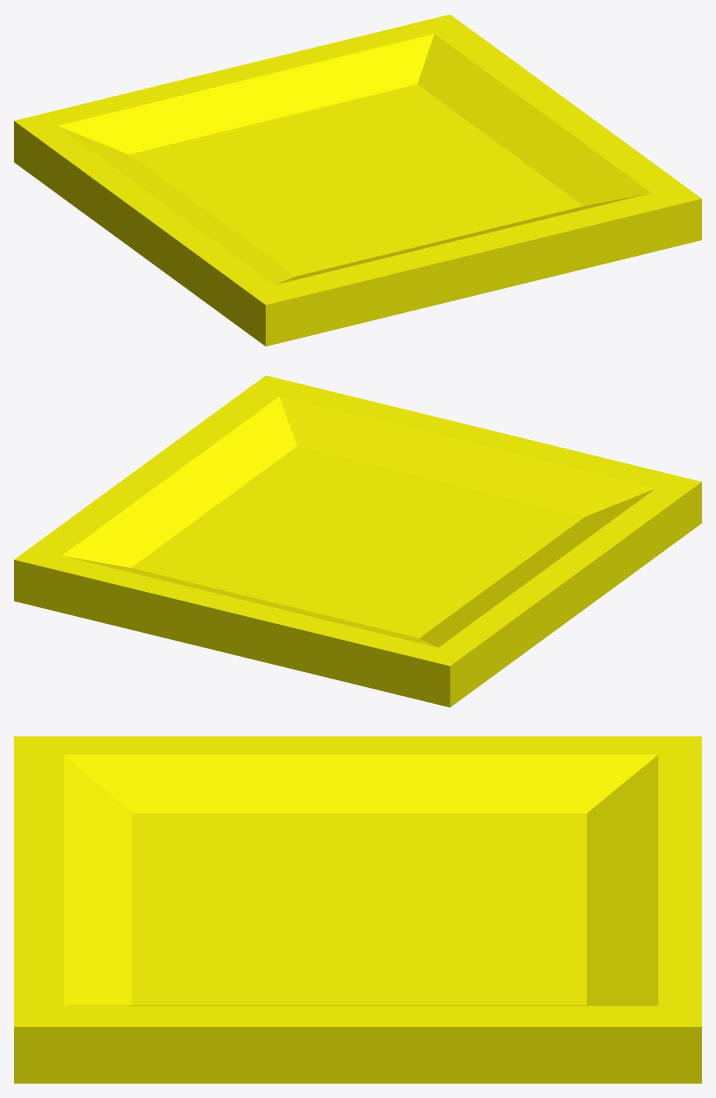
The model's file is platform.glb.
3 views of the same model, one above another, from view 1: azimuth 30°, elevation 25°; view 2: azimuth 150°, elevation 25°; view 3: azimuth 270°, elevation 25° (orthographic). The views are drawn at different scales.
Parts seen in each view (by area): view 1: Model; view 2: Model; view 3: Model.
Part boxes in pixels (x1=…): Model: x1=14, y1=14, x2=701, y2=346; Model: x1=14, y1=375, x2=701, y2=707; Model: x1=14, y1=736, x2=701, y2=1083.
Bounding box in the file's own units: 0.0044 × 0.0004 × 0.0044.
